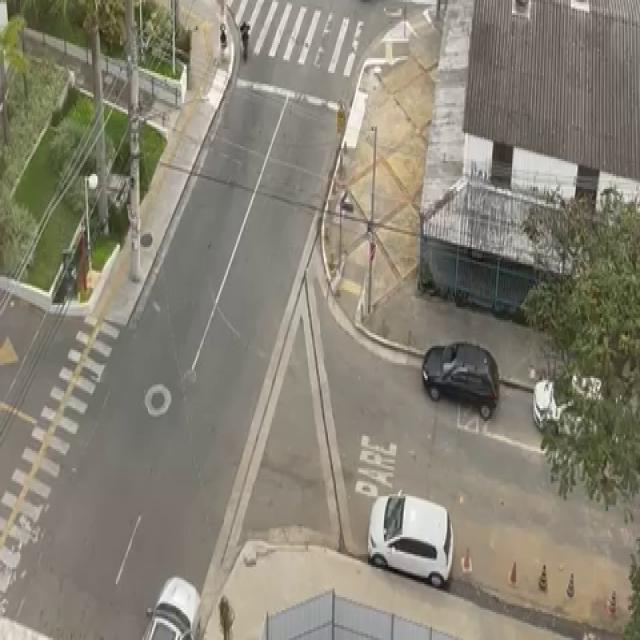car: (367, 489, 458, 595), (419, 334, 502, 426), (141, 573, 204, 640)
motorbike: (238, 6, 252, 74)
